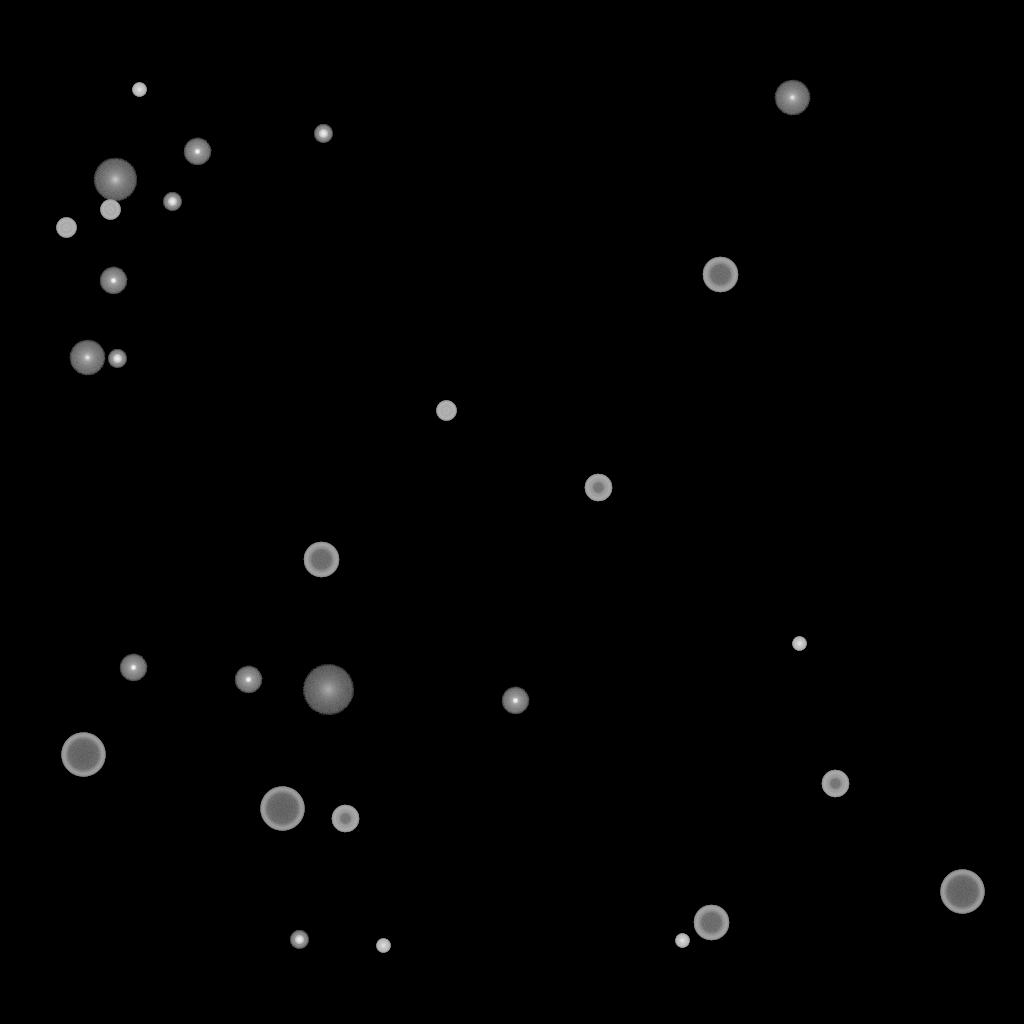depth:-10: (99, 267, 127, 295), (183, 138, 211, 166), (234, 666, 262, 694), (119, 654, 147, 682), (501, 687, 529, 715)
depth:-20: (108, 350, 126, 368), (314, 125, 332, 143), (163, 193, 181, 211), (290, 931, 308, 949)
depth:-30: (792, 637, 806, 651), (132, 83, 146, 97), (675, 934, 689, 948), (376, 939, 390, 953)
depth:-40: (436, 401, 456, 421), (100, 200, 120, 220), (56, 218, 76, 238)
depth:-50: (821, 770, 849, 798), (584, 474, 612, 502), (331, 805, 359, 833)
depth:-60: (693, 905, 729, 941), (303, 542, 339, 578), (702, 257, 738, 293)
depth:-70: (940, 870, 984, 914), (260, 787, 304, 831), (61, 733, 105, 777)
depth:0: (69, 340, 105, 376), (774, 80, 810, 116)
depth:10: (93, 158, 137, 202)
depth:20: (302, 665, 354, 715)
